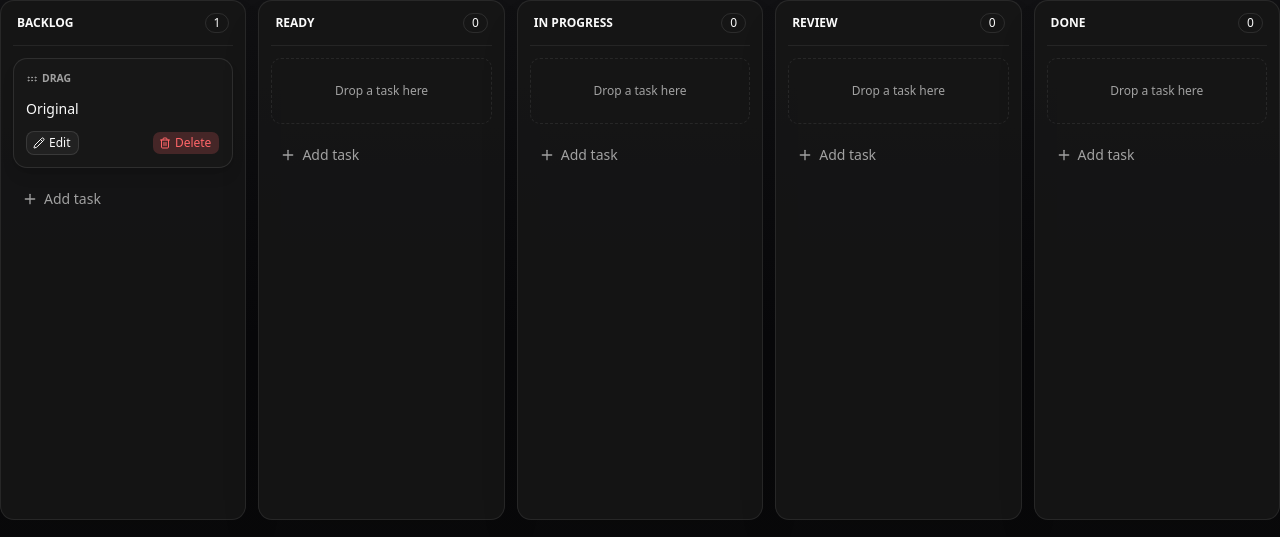
Board › edits and deletes a task
Click the button "Edit" at (53, 143), box [26,131,80,155]
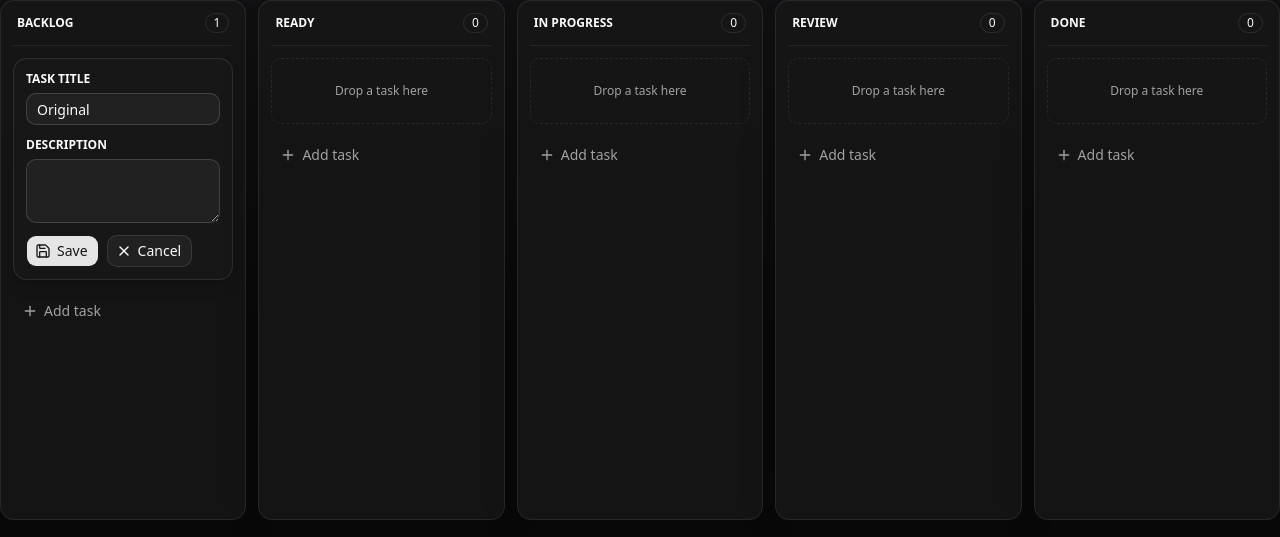
Replace the text in the field named "Title for Original" with "Revised" at (123, 109), box [26,93,220,125]
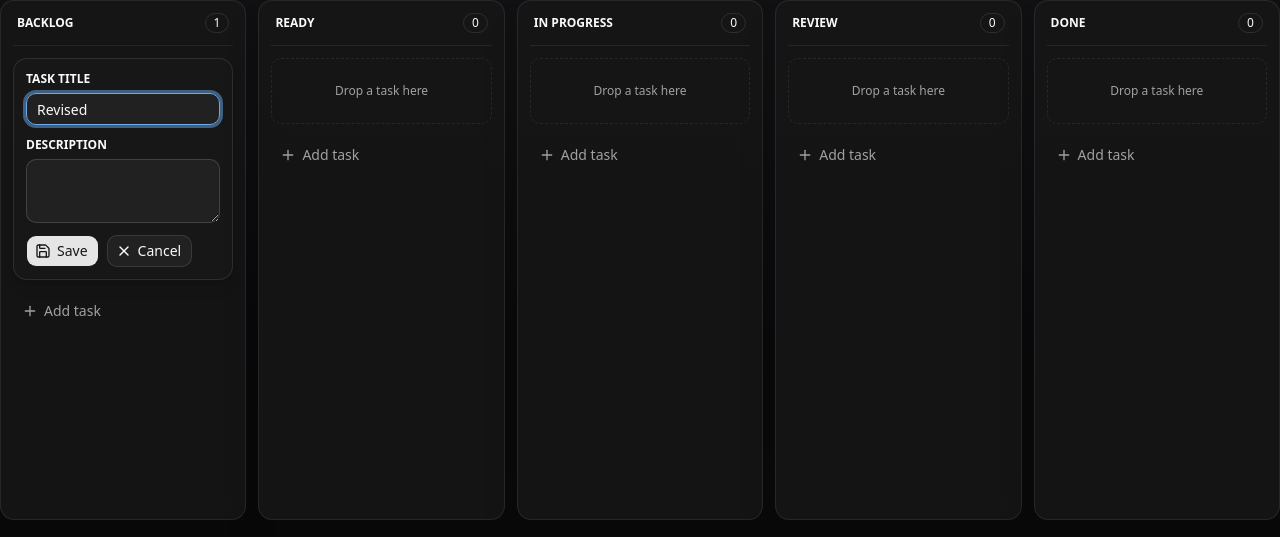
Click the button "Save" at (62, 251), box [26,235,99,267]
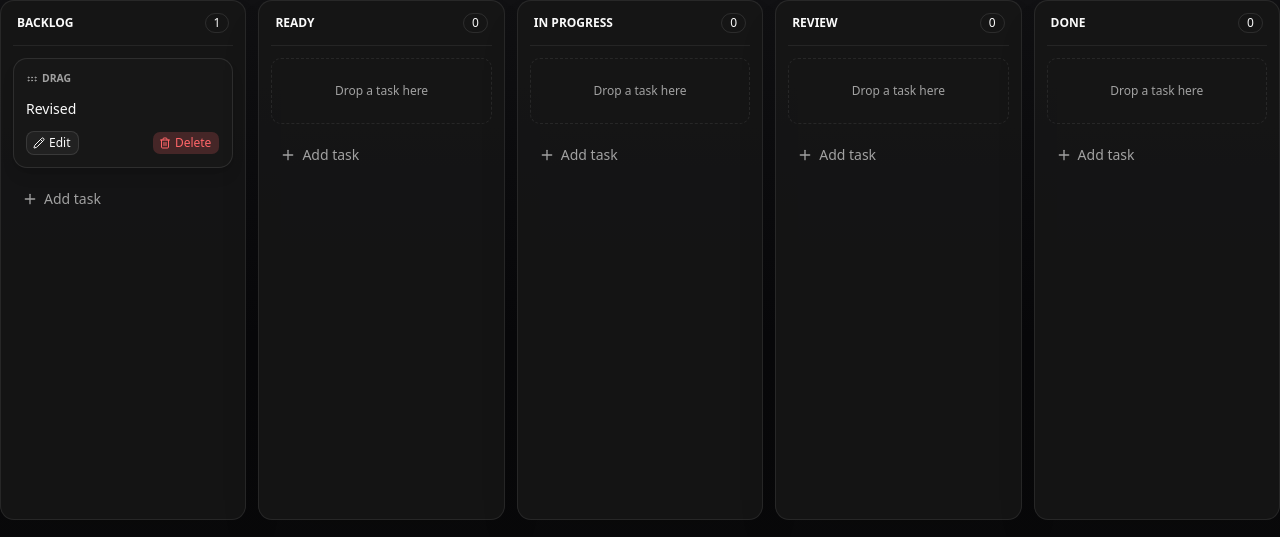
Check: the heading "Revised" is shown, box [26,99,76,118]
Click the button "Delete" at (186, 143), box [152,131,220,155]
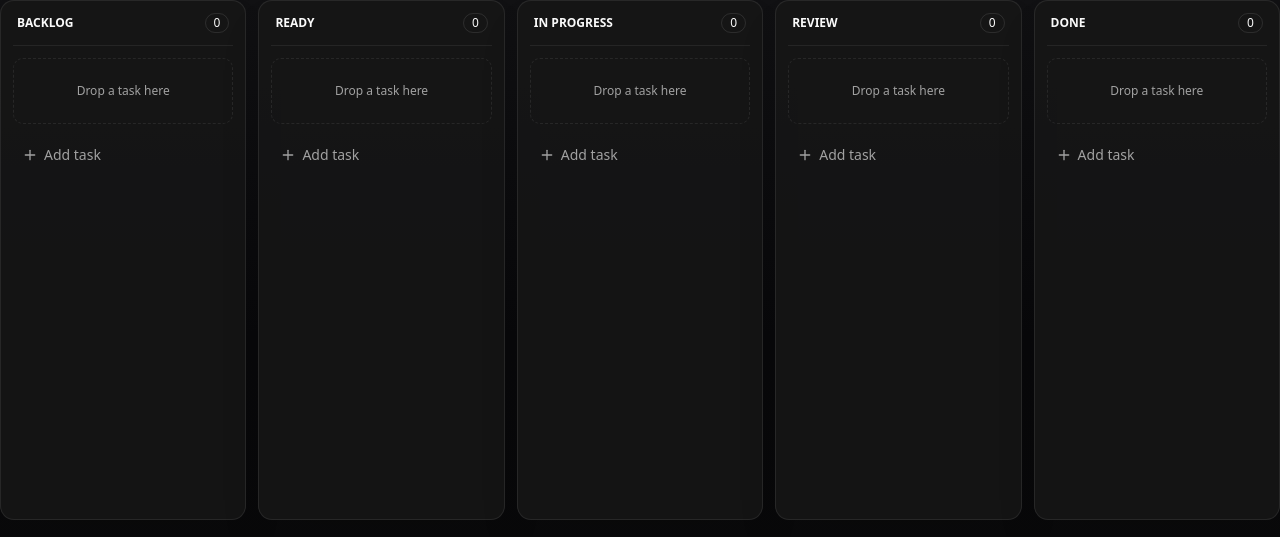
Check: the heading "Revised" is gone
